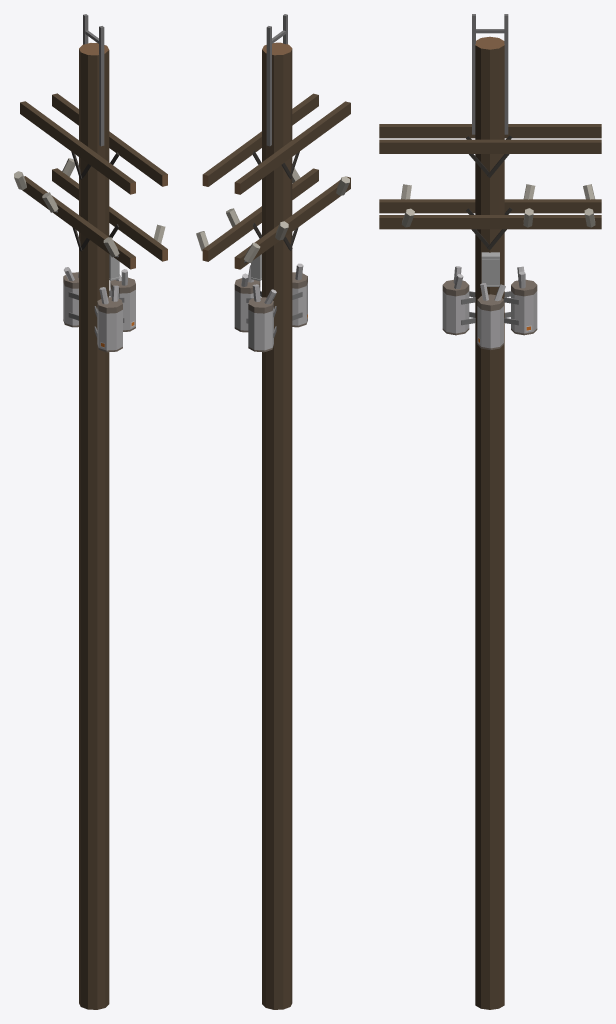
The model's file is SM_utility_pole_4.gltf.
The picture shows the model from 3 angles, left to right: view 1: azimuth 30°, elevation 25°; view 2: azimuth 150°, elevation 25°; view 3: azimuth 270°, elevation 25°; orthographic projection.
Visible parts, largest first — view 1: SM_utility_pole_4; view 2: SM_utility_pole_4; view 3: SM_utility_pole_4.
Part boxes in pixels (x1,y1,x2,y2): SM_utility_pole_4: [14, 14, 167, 1009]; SM_utility_pole_4: [196, 14, 350, 1009]; SM_utility_pole_4: [379, 14, 601, 1009].
Size of the model in its own units: 0.7521 by 9.75 by 1.99.
Materials: 1 (1 with a texture image).
